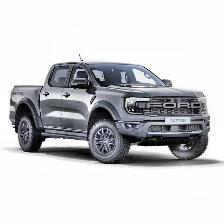NON-EV: (12, 56, 211, 164)
